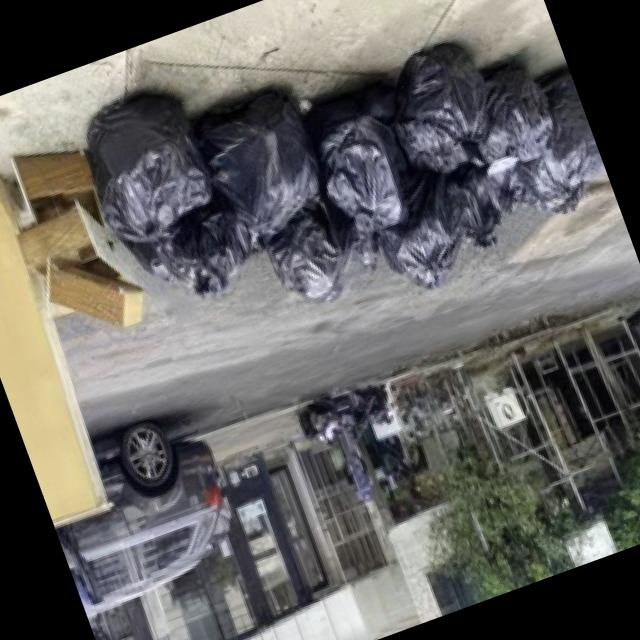high trash: (14, 44, 604, 326)
